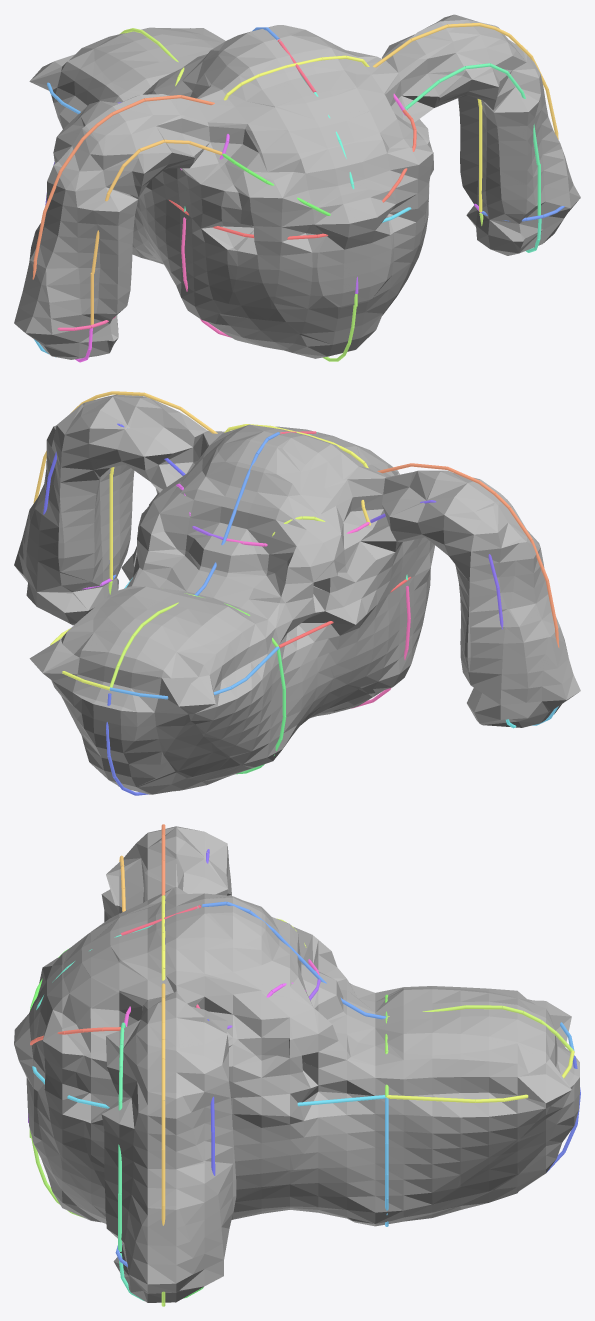
Rendered from scaffolds3d_dog.gltf.
3 views of the same model, one above another, from view 1: azimuth 30°, elevation 25°; view 2: azimuth 150°, elevation 25°; view 3: azimuth 270°, elevation 25° (orthographic). The views are drawn at different scales.
Size of the model in its own units: 0.7558 by 0.3768 by 0.606.
